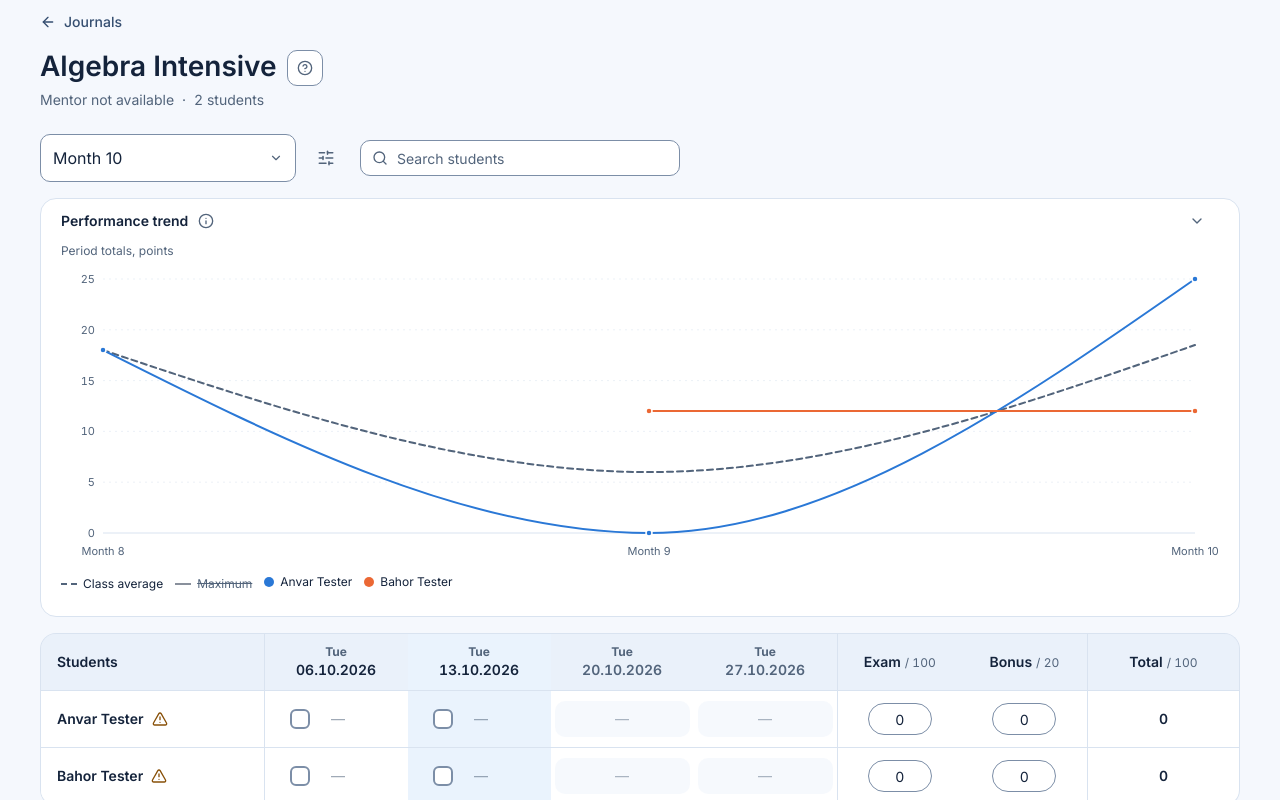
Test: Period settings: exam maximum › shows only the period as subtitle, the explanation behind an info tooltip next to the exam label and no range text
Click the button named "Period settings" at (326, 158), box [304,136,348,180]
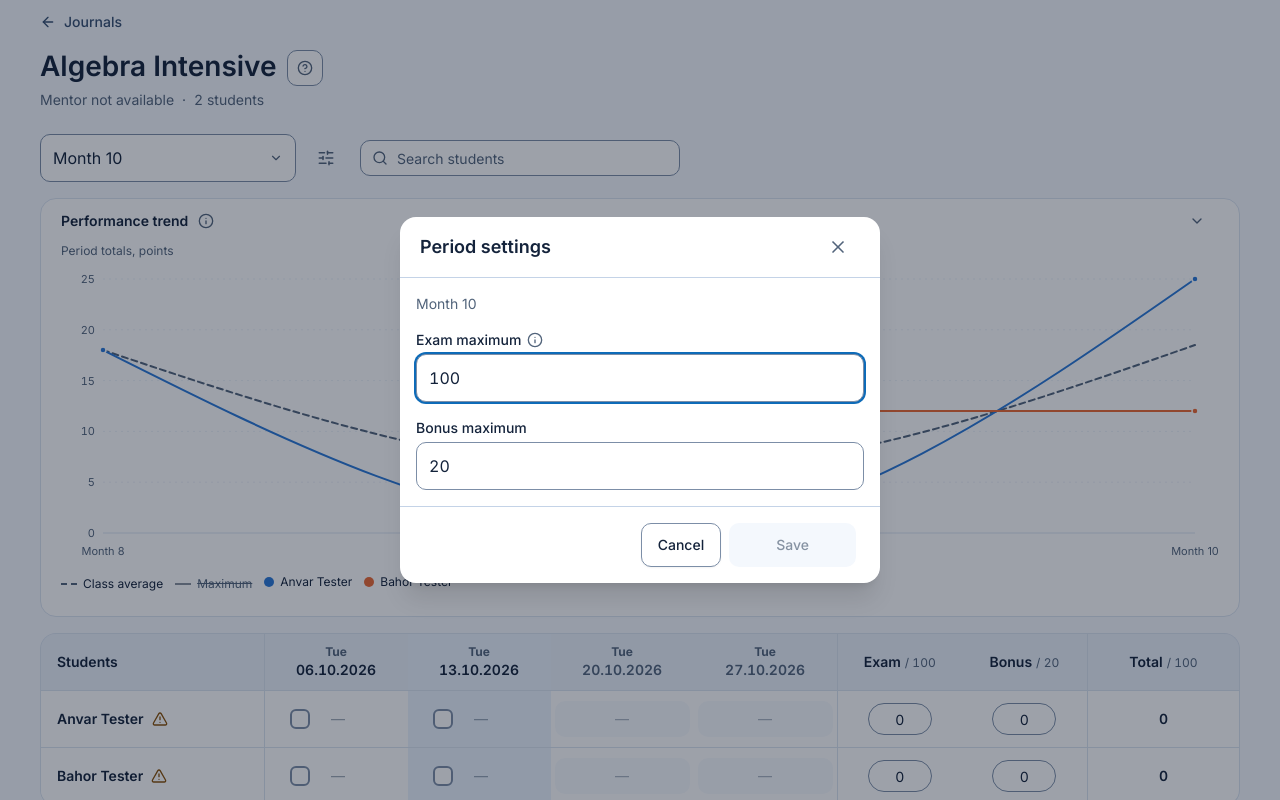
Result: the text with test id "period-settings-subtitle" reads "Month 10" at [416,295,477,312]
Result: the button named "About maximums" is shown at [513,318,557,362]
Result: the field labelled "Exam maximum" holds "100" at [416,354,864,402]
